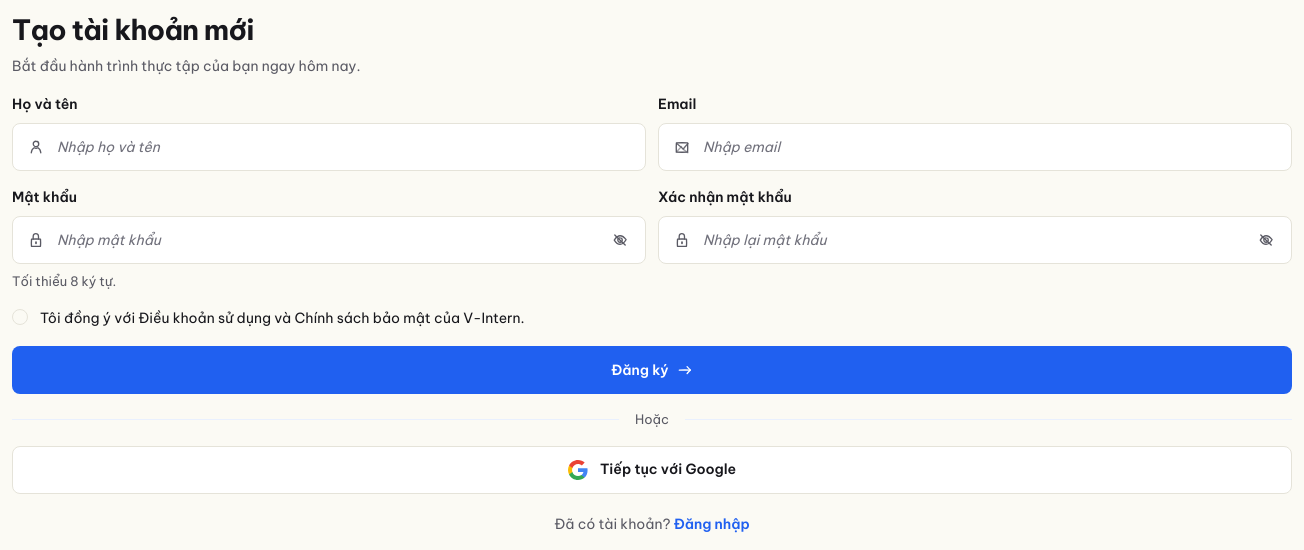
Test: RegisterForm › mật khẩu quá ngắn → báo lỗi tối thiểu 8 ký tự
Type "Nguyễn Văn A" into the field labelled "Họ và tên" at (329, 147), box [12,123,646,171]
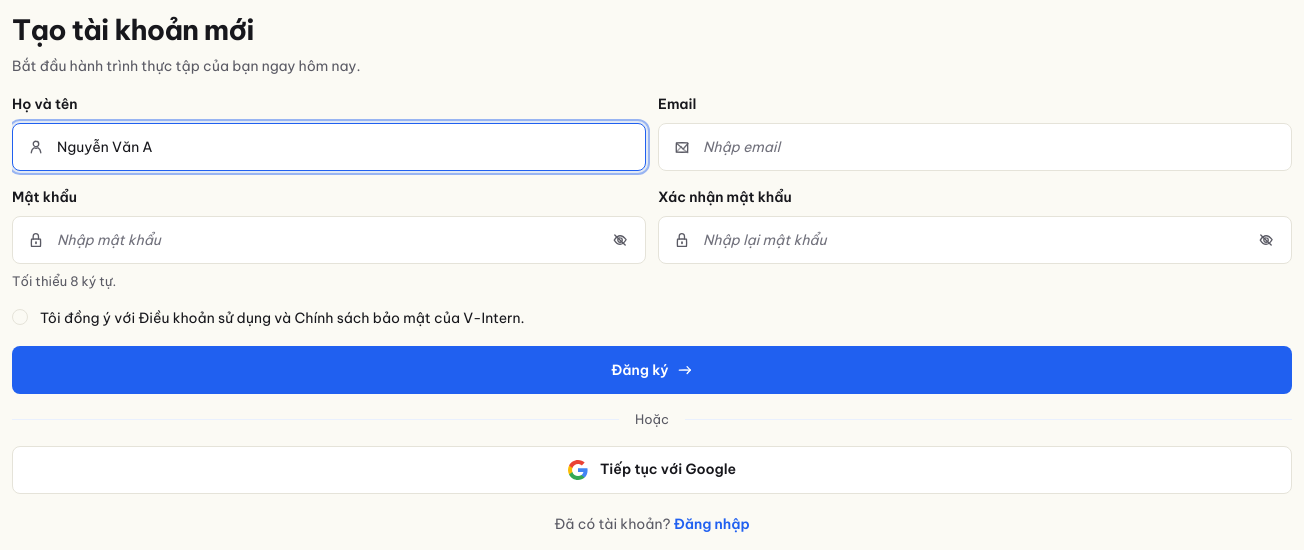
Type "sv@vintern.vn" into the field labelled "Email" at (975, 147), box [658,123,1292,171]
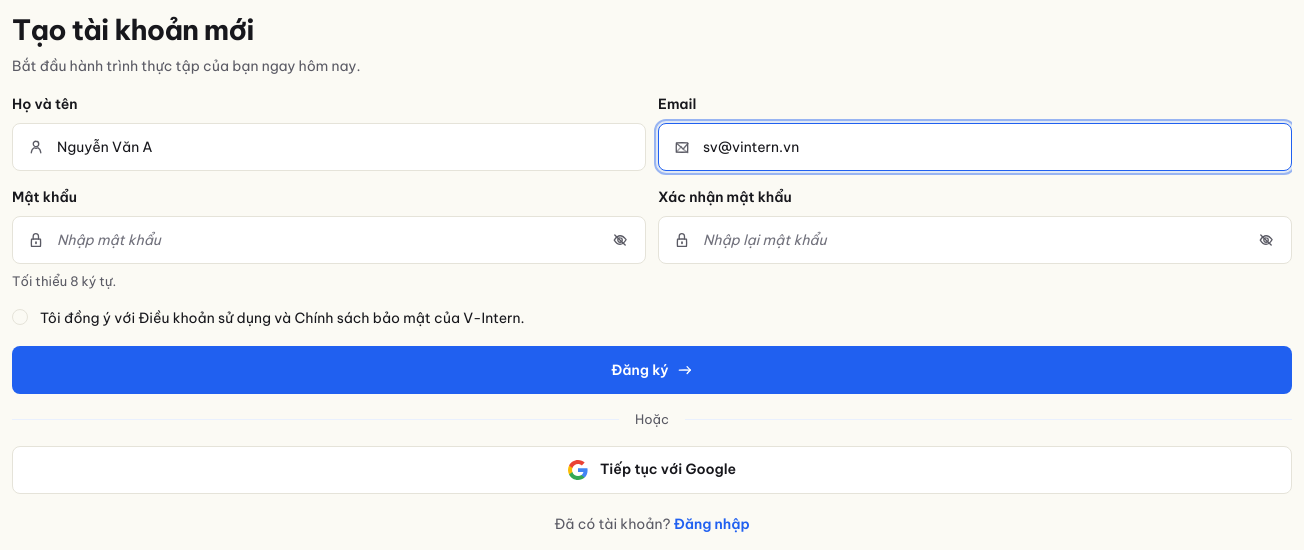
Type "abc12" into the password field labelled "Mật khẩu" at (329, 240), box [12,216,646,264]
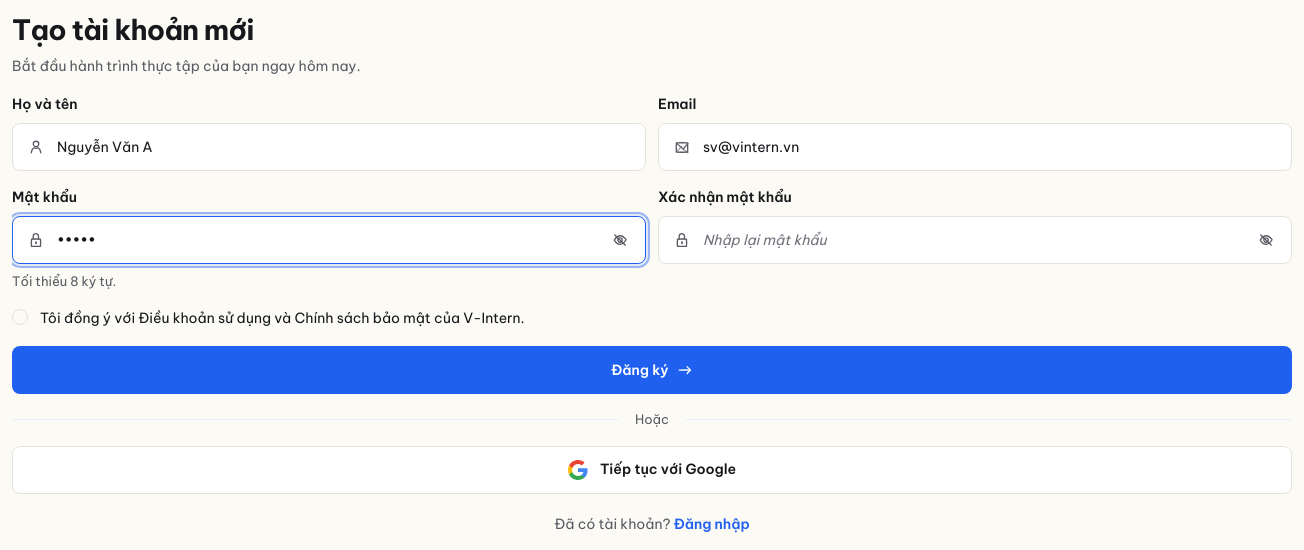
Type "abc12" into the password field labelled "Xác nhận mật khẩu" at (975, 240), box [658,216,1292,264]
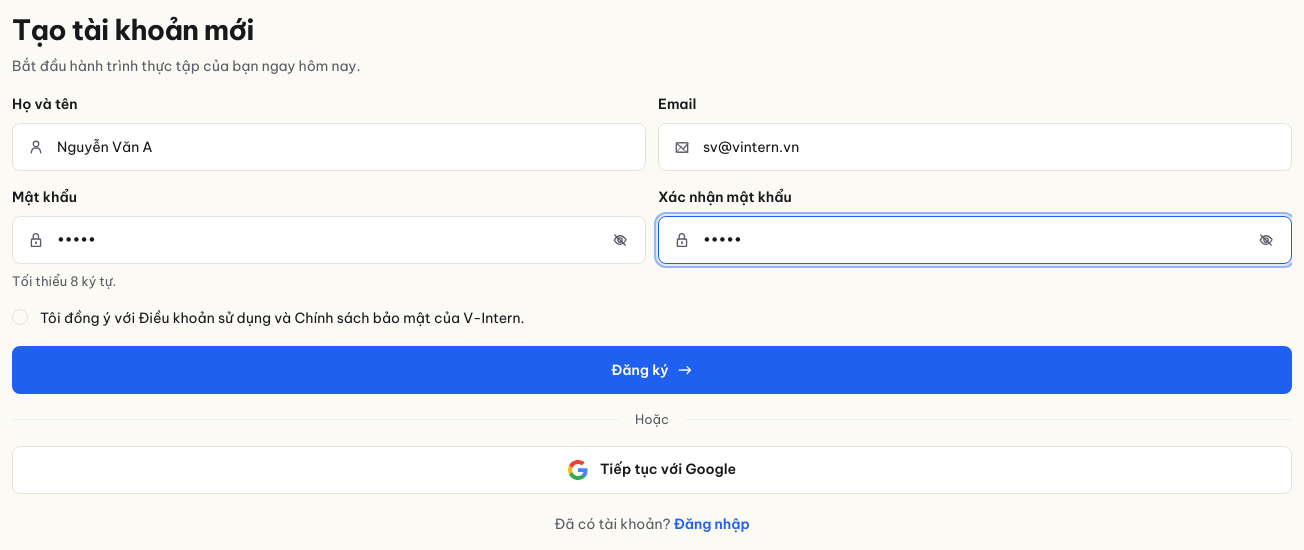
Click the checkbox labelled "Tôi đồng ý với Điều khoản" at (268, 318), box [12,309,524,327]
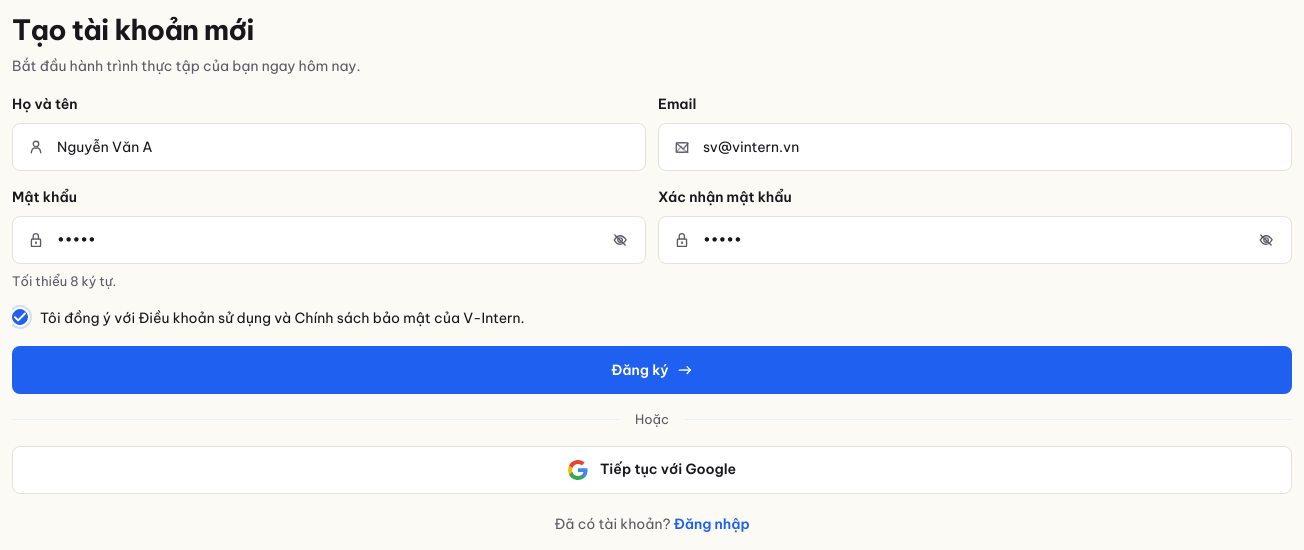
Click the button "Đăng ký" at (652, 370), box [12,346,1292,394]
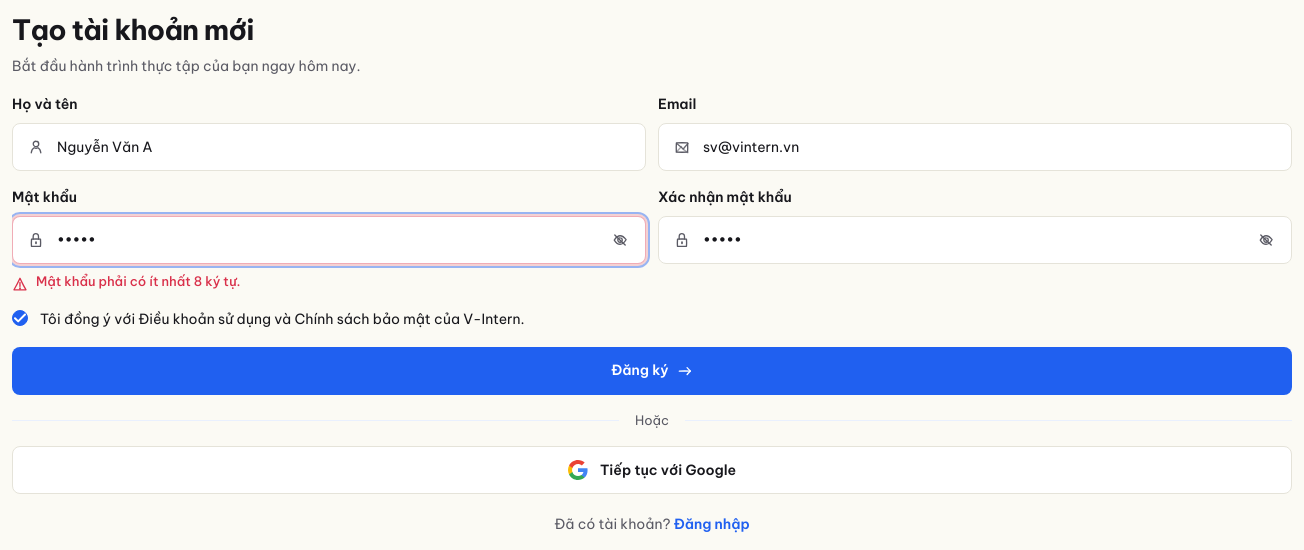
Expected: the text "Mật khẩu phải có ít nhất 8 ký tự." is shown, [12,273,240,292]
